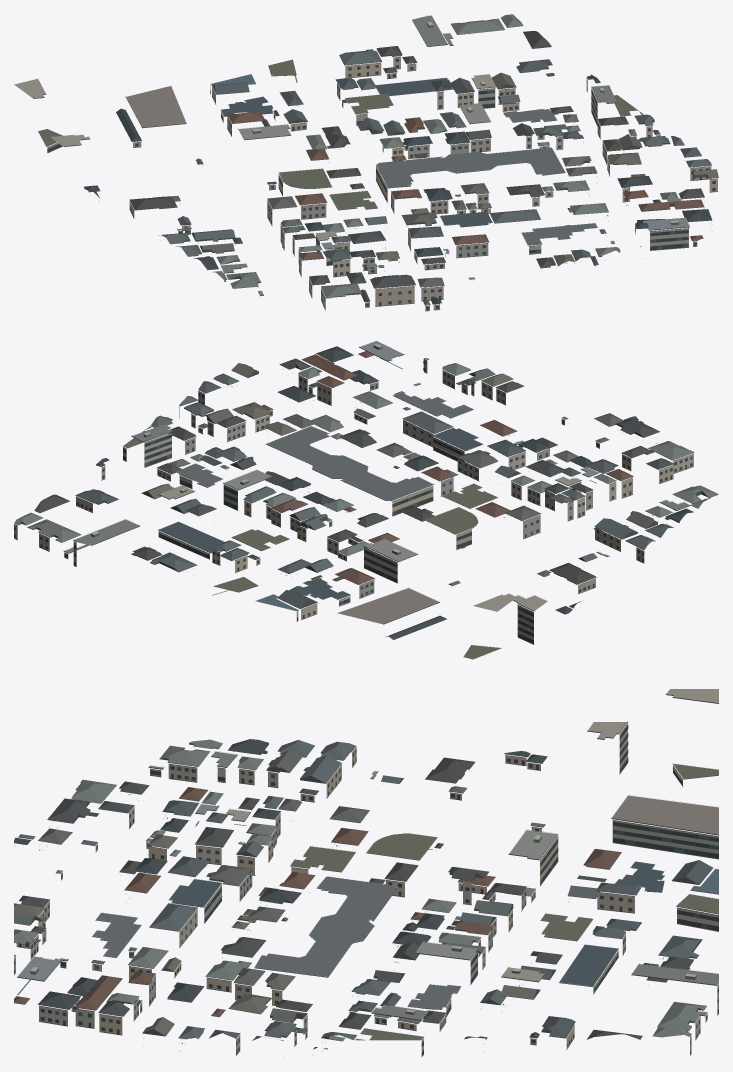
3 renders of one model, top to bottom at view 1: azimuth 30°, elevation 25°; view 2: azimuth 150°, elevation 25°; view 3: azimuth 270°, elevation 25°, orthographic. The views are drawn at different scales.
Parts seen in each view (by area): view 1: r2-c5; view 2: r2-c5; view 3: r2-c5.
Part boxes in pixels (x1,y1,x2,y2): r2-c5: (14, 14, 718, 311); r2-c5: (14, 340, 718, 659); r2-c5: (14, 689, 718, 1056).
Size of the model in its own units: 250 by 29.44 by 250.
